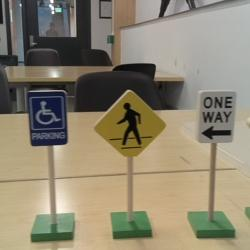handicap_parking: (27, 90, 67, 147)
one_way: (196, 90, 236, 143)
pedestrian_crossing: (94, 90, 166, 157)
